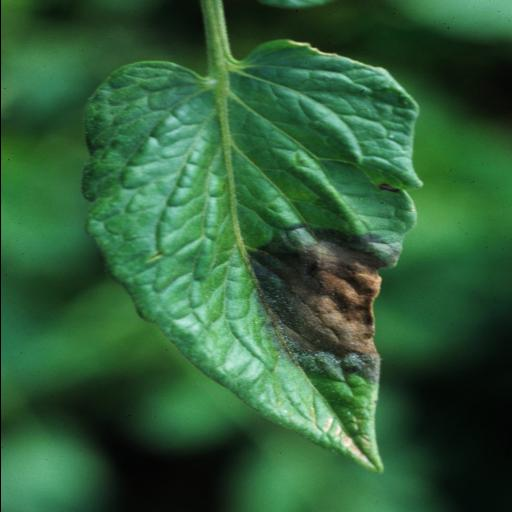disease_tomato: (78, 39, 422, 475)
